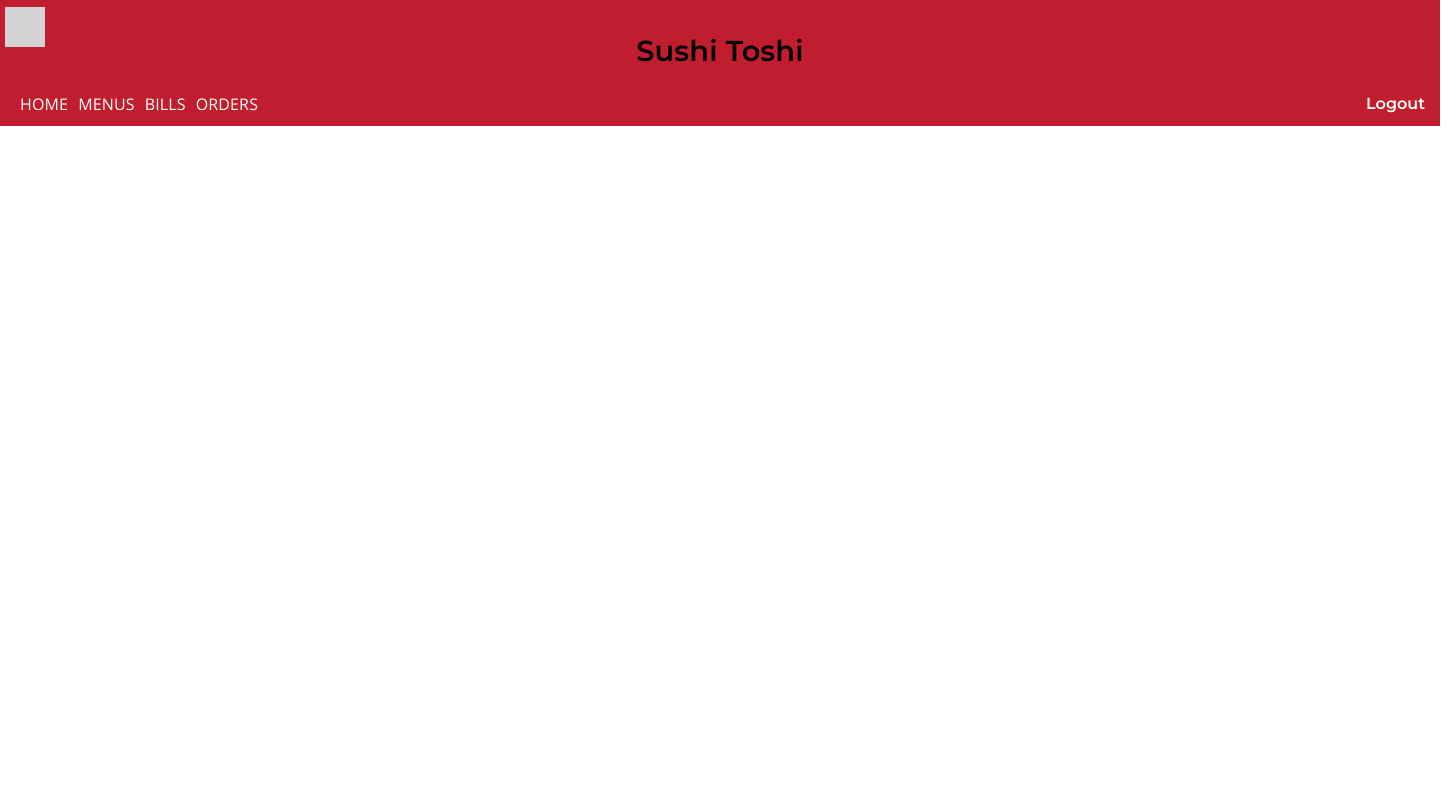
Test case: Header › Customer Navigation › opens menu dropdown when MENUS is clicked
Click the text "MENUS".
click(106, 104)  # box [78,93,135,115]
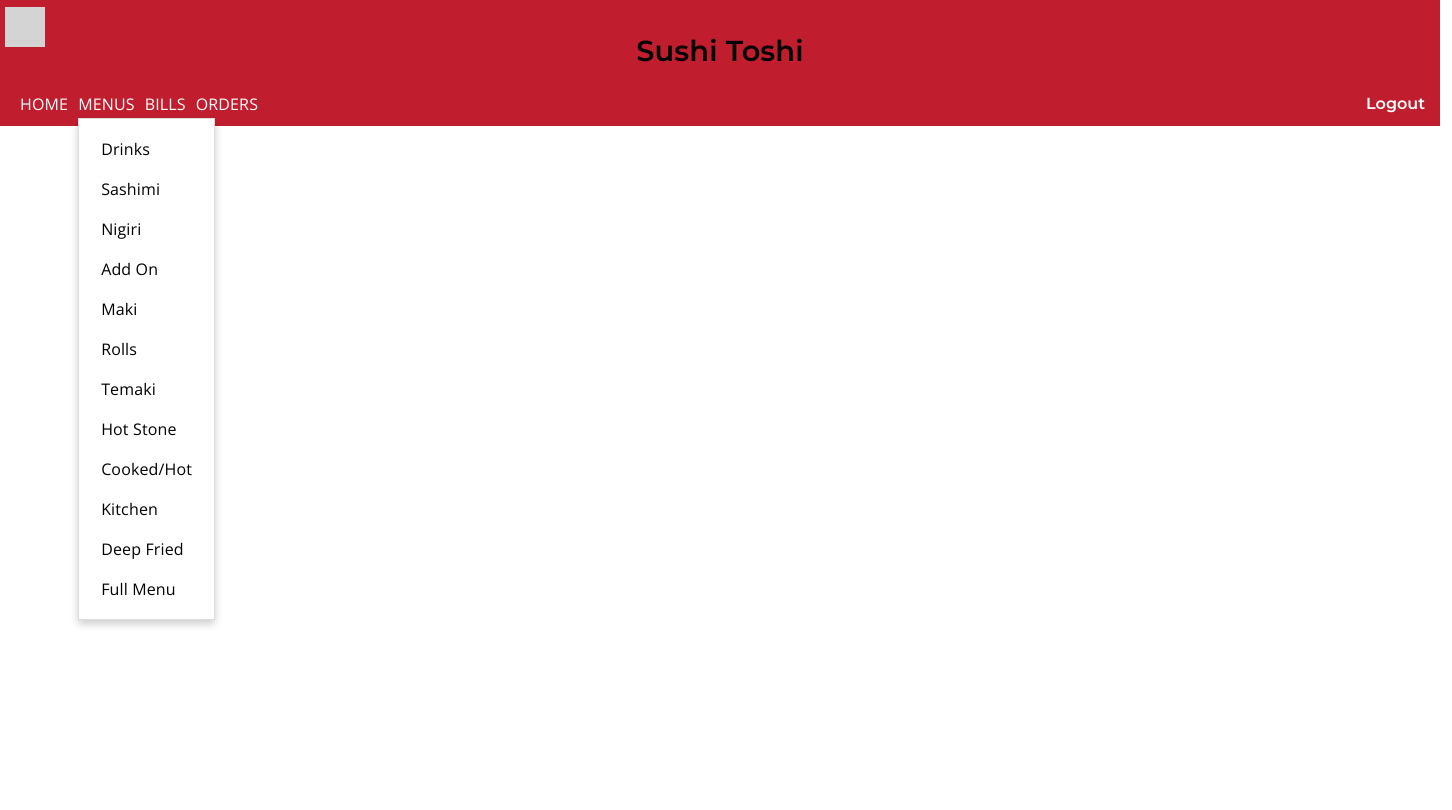
Now the link "Drinks" is shown, box [101,138,150,160]
Now the link "Sashimi" is shown, box [101,178,160,200]
Now the link "Nigiri" is shown, box [101,218,141,240]
